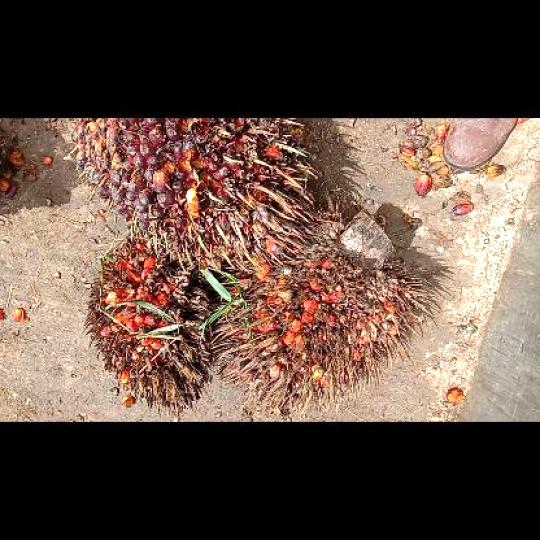masak: (68, 117, 320, 272)
terlalu masak: (210, 205, 434, 418), (81, 234, 212, 418)
